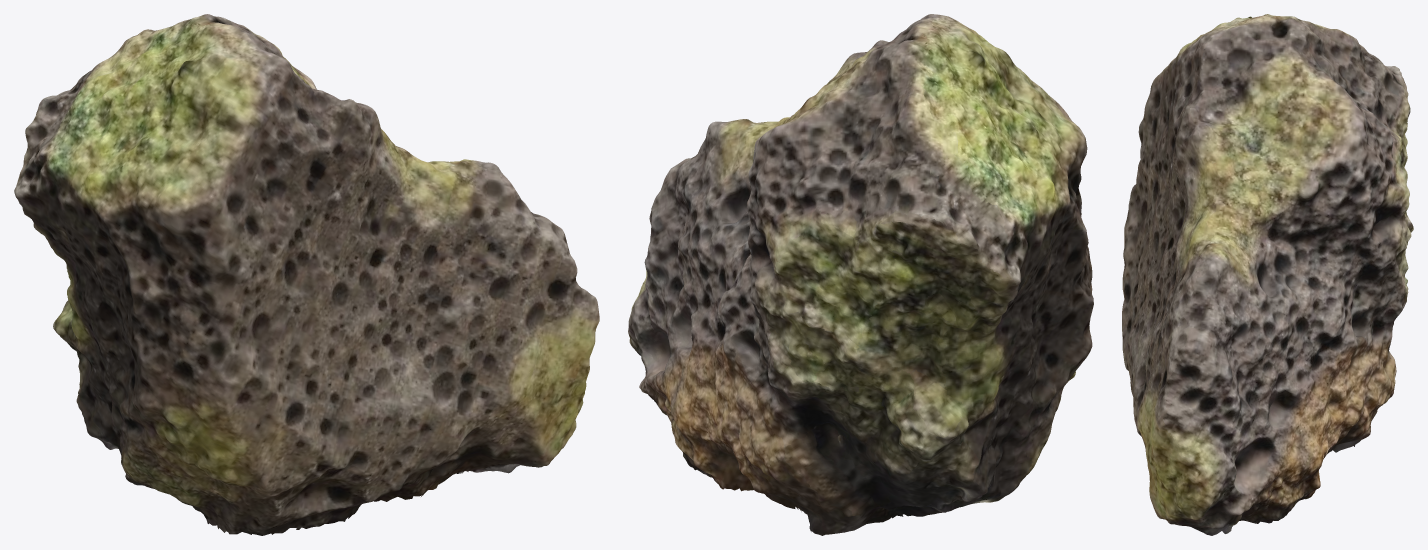
File: peridotite.glb
3 views of the same model, side by side, from view 1: azimuth 30°, elevation 25°; view 2: azimuth 150°, elevation 25°; view 3: azimuth 270°, elevation 25° (orthographic). The views are drawn at different scales.
Parts seen in each view (by area): view 1: Object_2; view 2: Object_2; view 3: Object_2.
Part boxes in pixels (x1,y1,x2,y2): Object_2: (14, 14, 599, 535); Object_2: (628, 14, 1093, 535); Object_2: (1122, 14, 1413, 535).
Size of the model in its own units: 0.09 by 0.0874 by 0.0564.
1 material, 1 textured.
